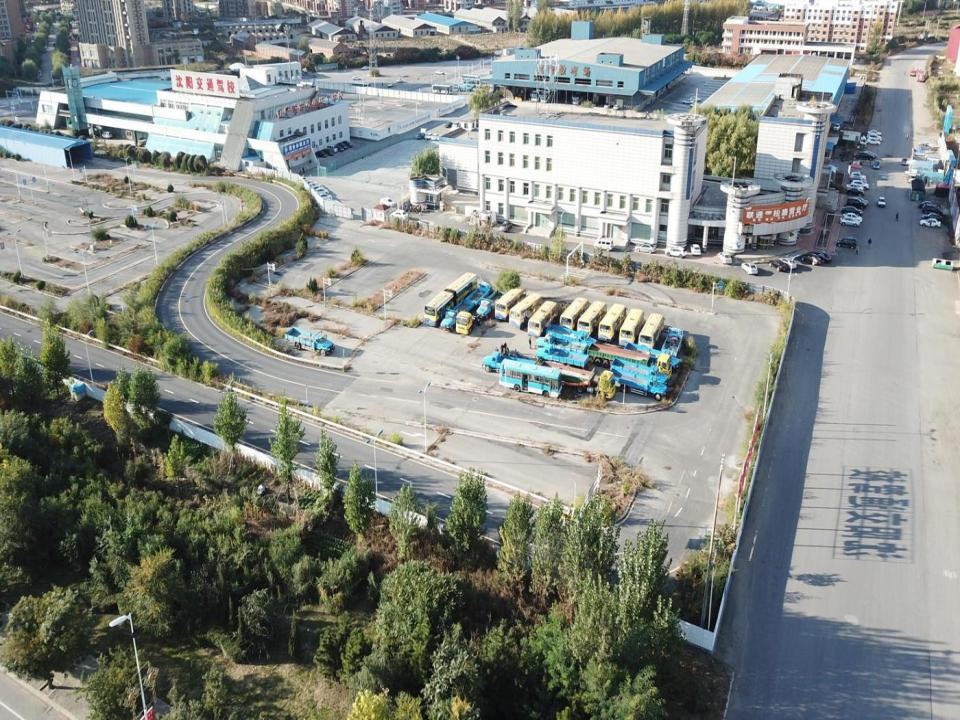bus: (500, 358, 564, 398), (444, 271, 479, 310), (508, 294, 544, 330), (596, 304, 627, 344), (576, 301, 606, 341), (422, 291, 454, 328), (526, 302, 558, 337), (618, 309, 646, 349), (493, 288, 525, 322), (637, 314, 664, 353), (560, 299, 590, 334), (539, 87, 556, 104), (572, 89, 589, 106), (432, 82, 453, 94), (530, 89, 548, 102), (462, 74, 482, 85), (351, 82, 372, 92), (462, 78, 482, 88)
car: (800, 253, 822, 266), (664, 246, 686, 258), (837, 236, 857, 249), (769, 258, 787, 272), (847, 197, 866, 210), (634, 242, 656, 253), (922, 212, 944, 223), (717, 250, 733, 265), (742, 262, 758, 277), (840, 217, 860, 228), (922, 214, 942, 225), (813, 250, 831, 262), (841, 206, 862, 216), (918, 200, 939, 210), (922, 204, 942, 214), (844, 213, 862, 224), (850, 174, 868, 185), (390, 210, 407, 221), (850, 196, 868, 206), (845, 184, 863, 194), (851, 180, 869, 190), (849, 171, 867, 181), (379, 197, 396, 207), (783, 257, 796, 270), (501, 220, 514, 232), (690, 243, 701, 257), (867, 132, 882, 142), (846, 188, 864, 196), (860, 150, 876, 159), (857, 152, 874, 160), (314, 150, 328, 158), (868, 129, 882, 137), (866, 138, 881, 145), (322, 148, 334, 156), (918, 142, 933, 148), (452, 121, 461, 130), (334, 144, 344, 152), (337, 142, 347, 150), (878, 197, 886, 207), (901, 156, 909, 166), (918, 143, 931, 149), (342, 141, 353, 148), (416, 132, 425, 140), (430, 132, 439, 140), (444, 121, 454, 128), (833, 122, 840, 132), (691, 95, 700, 102), (874, 160, 880, 170), (425, 132, 432, 140), (910, 66, 915, 76), (612, 105, 620, 111), (682, 99, 694, 103), (352, 75, 360, 80), (361, 65, 369, 70), (434, 70, 444, 74), (387, 82, 393, 87), (604, 102, 610, 107), (396, 78, 402, 82)
truck: (587, 342, 673, 379), (542, 360, 615, 397), (609, 367, 668, 401), (535, 343, 588, 372), (612, 358, 668, 385), (482, 352, 539, 377), (547, 322, 594, 352), (536, 334, 586, 362), (285, 326, 334, 354), (440, 300, 472, 334), (478, 288, 508, 322), (55, 371, 86, 403), (464, 278, 492, 310), (454, 308, 484, 336), (662, 324, 684, 360), (843, 129, 867, 147), (454, 82, 472, 92), (916, 67, 924, 82)
van: (595, 236, 613, 251), (327, 144, 339, 154), (101, 131, 112, 139)
